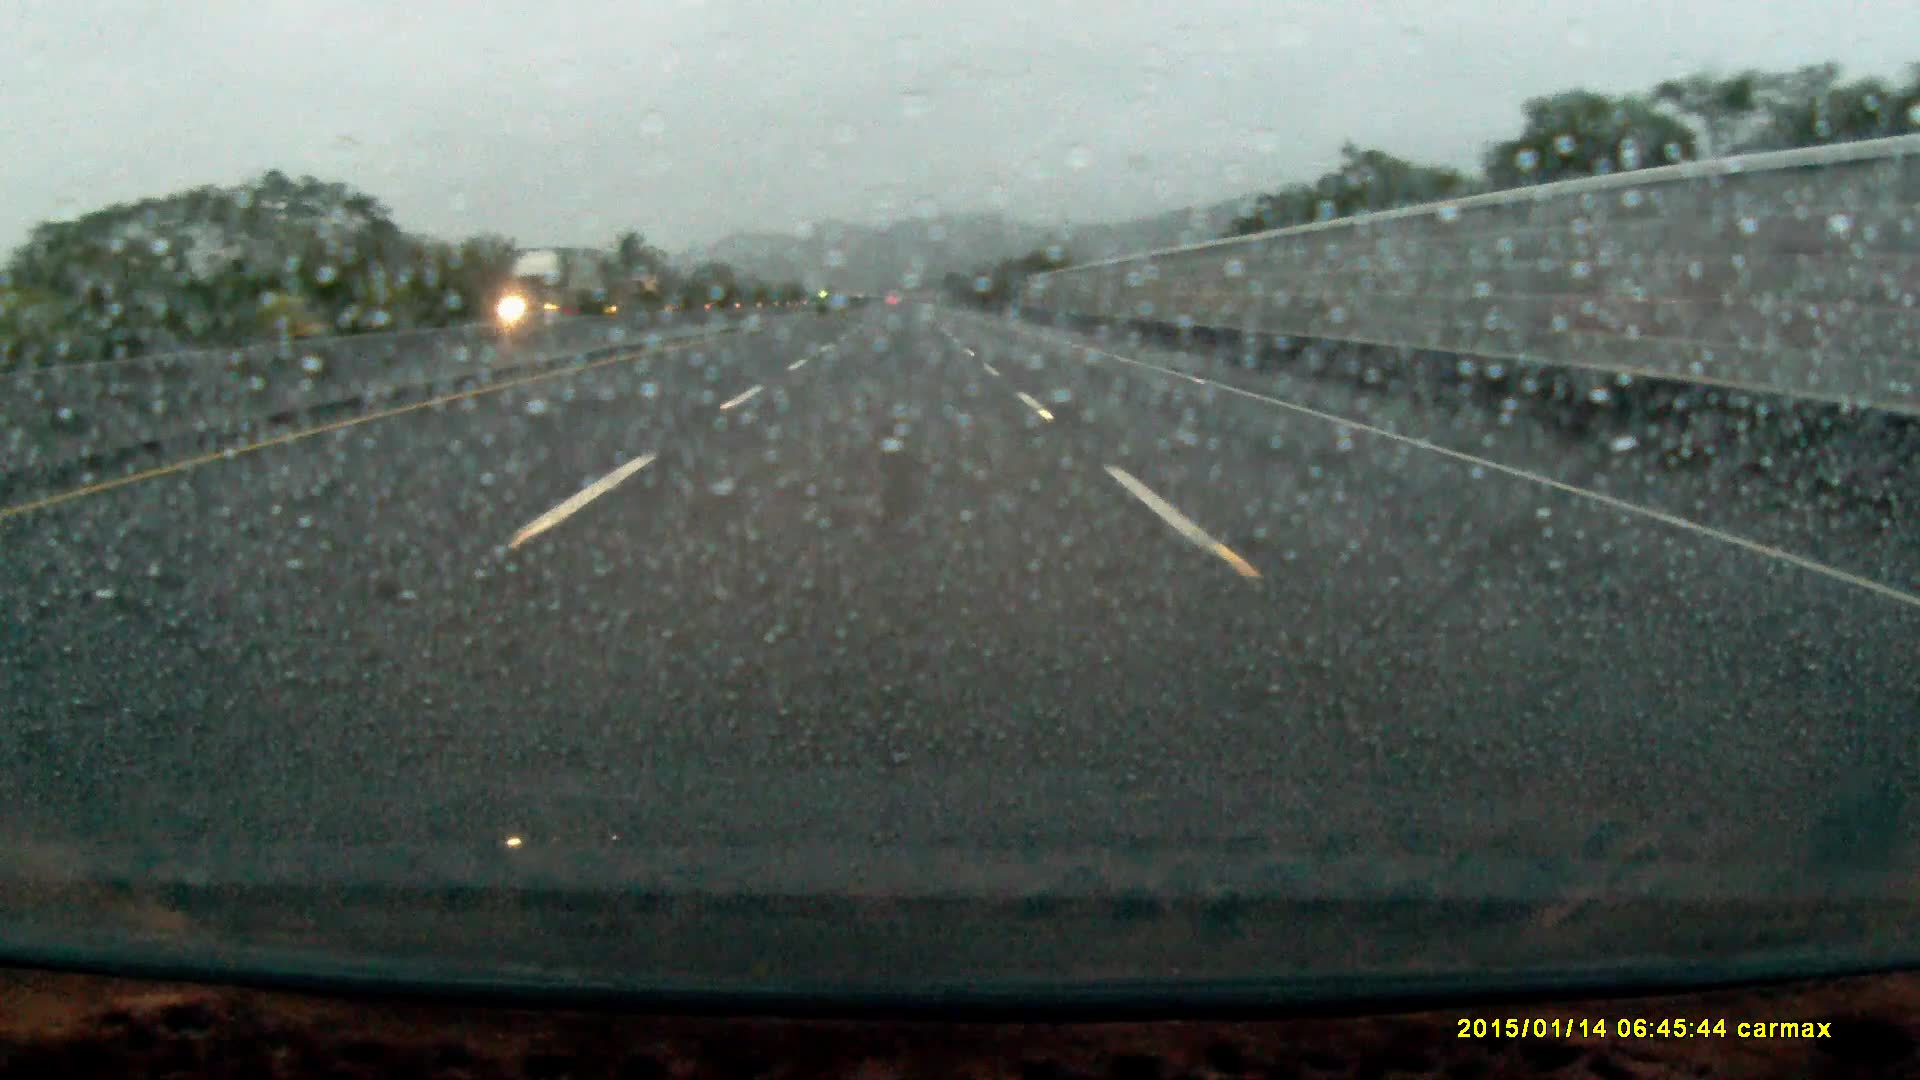vehicle: (498, 247, 608, 318)
